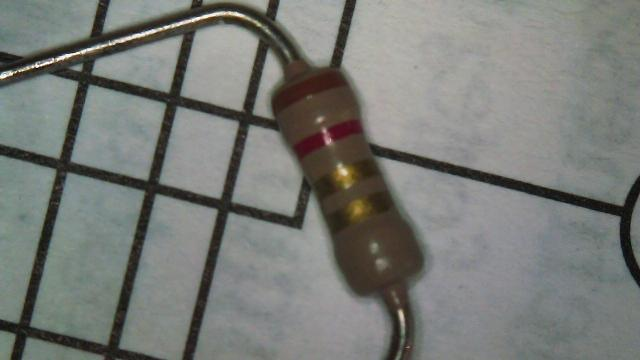brown: (272, 70, 348, 114)
gold: (314, 159, 379, 198), (327, 189, 392, 228)
red: (294, 120, 362, 158)
resistor: (231, 40, 464, 322)
